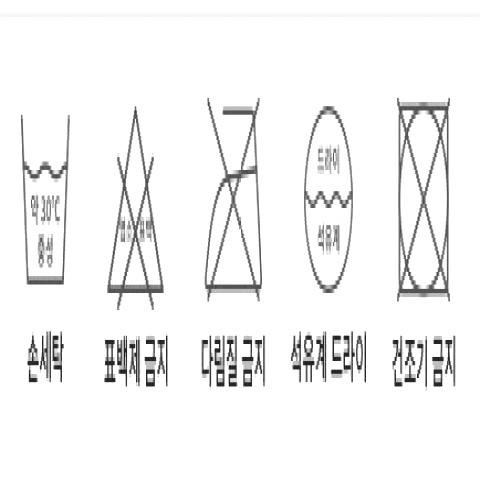30C: (15, 109, 81, 293)
DN_iron: (198, 93, 279, 310)
DN_tumble_dry: (386, 96, 458, 307)
dry_clean_petrol_only: (293, 108, 366, 297)
non_chlorine_bleach: (100, 104, 173, 313)
